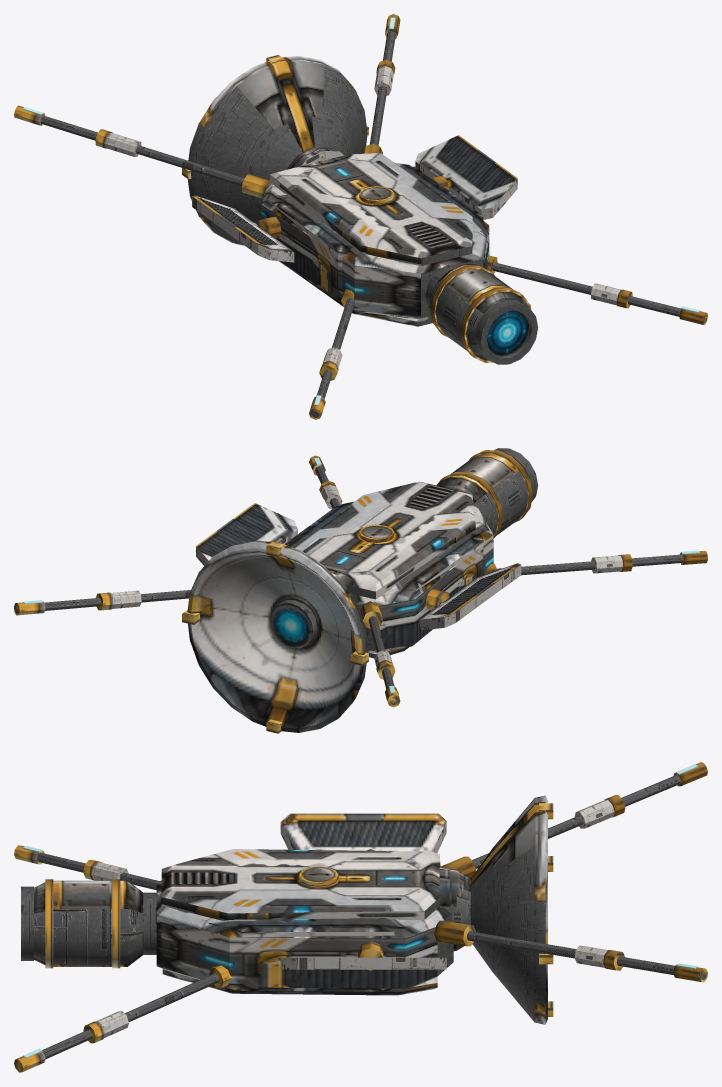
The model's file is survey-probe.obj.
3 views of the same model, one above another, from view 1: azimuth 30°, elevation 25°; view 2: azimuth 150°, elevation 25°; view 3: azimuth 270°, elevation 25° (orthographic). The views are drawn at different scales.
Visible parts, largest first — view 1: sensor.forward-dish, hull.dorsal-plates, hull.armored-core, engine.main.housing, radiator.starboard.folded-panel, hull.port.cheek, radiator.port.folded-panel, engine.main.nozzle-rim, antenna.port.forward.boom, antenna.starboard.aft.boom, hull.starboard.cheek, antenna.starboard.forward.boom (+3 smaller); view 2: sensor.forward-dish, hull.dorsal-plates, hull.armored-core, engine.main.housing, radiator.starboard.folded-panel, hull.port.cheek, radiator.port.folded-panel, sensor.optical-eye, antenna.port.aft.boom, antenna.starboard.forward.boom, hull.starboard.cheek, antenna.port.forward.boom (+6 smaller); view 3: hull.dorsal-plates, hull.armored-core, sensor.forward-dish, engine.main.housing, radiator.port.folded-panel, hull.starboard.cheek, radiator.starboard.folded-panel, antenna.starboard.forward.boom, antenna.starboard.aft.boom, sensor.neck, ventral.service-plating, antenna.port.forward.boom (+10 smaller).
Boxes of the visible parts, x1,y1,x2,y2 form: sensor.forward-dish: (187, 55, 367, 245); hull.dorsal-plates: (270, 153, 472, 266); hull.armored-core: (261, 163, 489, 318); engine.main.housing: (428, 264, 529, 360); radiator.starboard.folded-panel: (415, 135, 517, 219); hull.port.cheek: (270, 193, 367, 288); radiator.port.folded-panel: (192, 195, 294, 262); engine.main.nozzle-rim: (475, 299, 538, 364); antenna.port.forward.boom: (40, 115, 244, 186); antenna.starboard.aft.boom: (492, 262, 706, 322); hull.starboard.cheek: (401, 166, 483, 231); antenna.starboard.forward.boom: (369, 31, 395, 145); sensor.forward-dish: (187, 540, 367, 732); hull.dorsal-plates: (295, 481, 475, 599); hull.armored-core: (349, 505, 493, 652); engine.main.housing: (436, 453, 528, 535); radiator.starboard.folded-panel: (196, 503, 297, 565); hull.port.cheek: (391, 526, 483, 590); radiator.port.folded-panel: (419, 563, 521, 630); sensor.optical-eye: (270, 600, 317, 648); antenna.port.aft.boom: (497, 554, 683, 575); antenna.starboard.forward.boom: (15, 590, 190, 613); hull.starboard.cheek: (284, 501, 354, 548); antenna.port.forward.boom: (368, 616, 397, 705); hull.dorsal-plates: (161, 849, 440, 920); hull.armored-core: (156, 866, 453, 991); sensor.forward-dish: (470, 795, 547, 1024); engine.main.housing: (34, 880, 143, 966); radiator.port.folded-panel: (280, 813, 446, 852); hull.starboard.cheek: (208, 918, 406, 937); radiator.starboard.folded-panel: (280, 957, 446, 969); antenna.starboard.forward.boom: (467, 931, 706, 979); antenna.starboard.aft.boom: (16, 973, 219, 1069); sensor.neck: (439, 867, 470, 951); ventral.service-plating: (162, 969, 437, 995); antenna.port.forward.boom: (472, 775, 680, 868).
Bounding box in the file's own units: 4.31 × 1.92 × 5.78.
2 materials, 2 textured.
